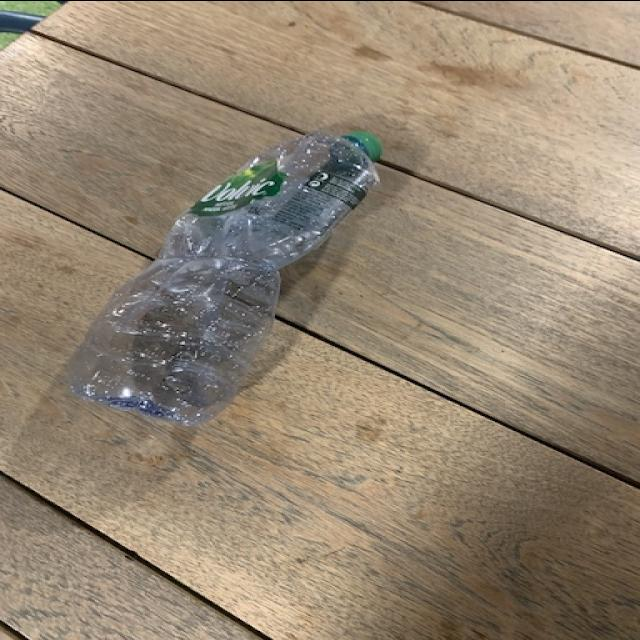PET: (60, 122, 398, 422)
